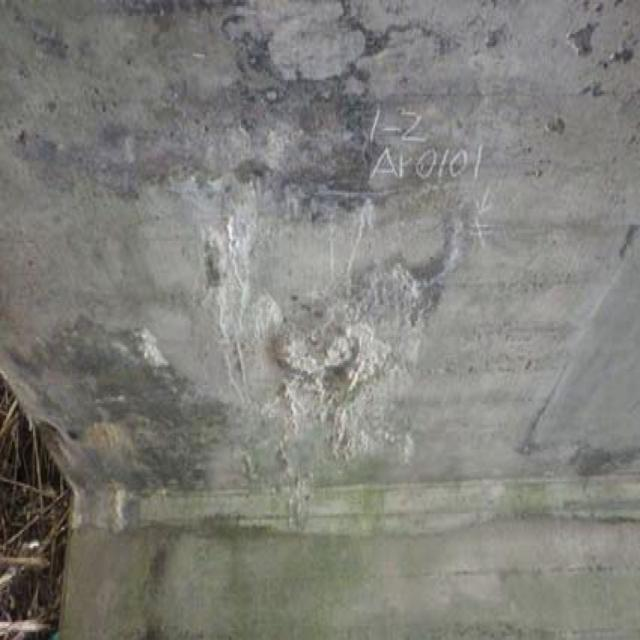leakage: (44, 324, 269, 546)
spalling: (307, 283, 450, 466)
